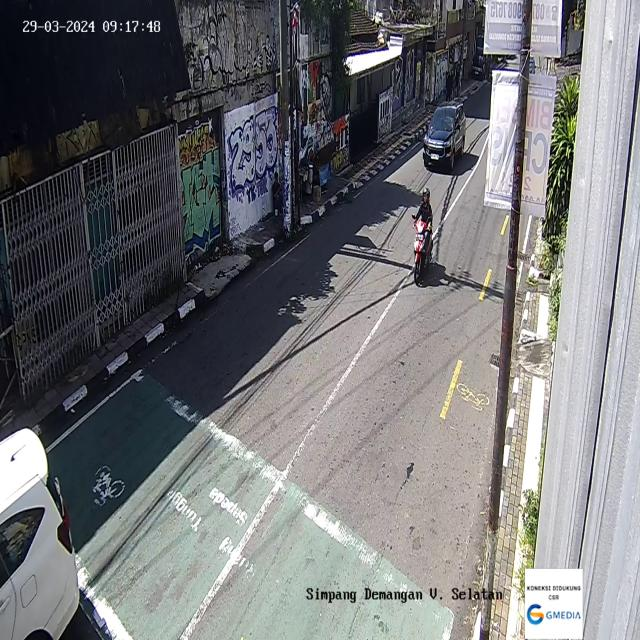car: (0, 427, 80, 639), (422, 99, 466, 169)
motorcycle: (411, 186, 434, 286)
